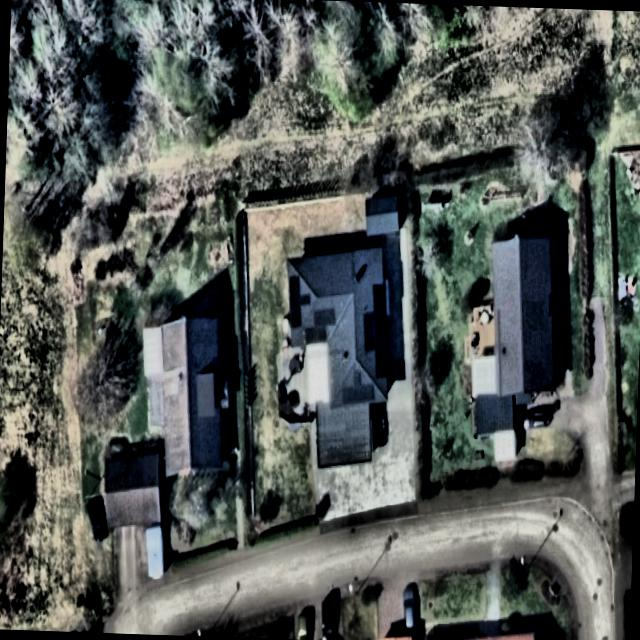roof_pv: (358, 278, 390, 382), (304, 299, 339, 347), (339, 368, 376, 409), (286, 274, 312, 332)
